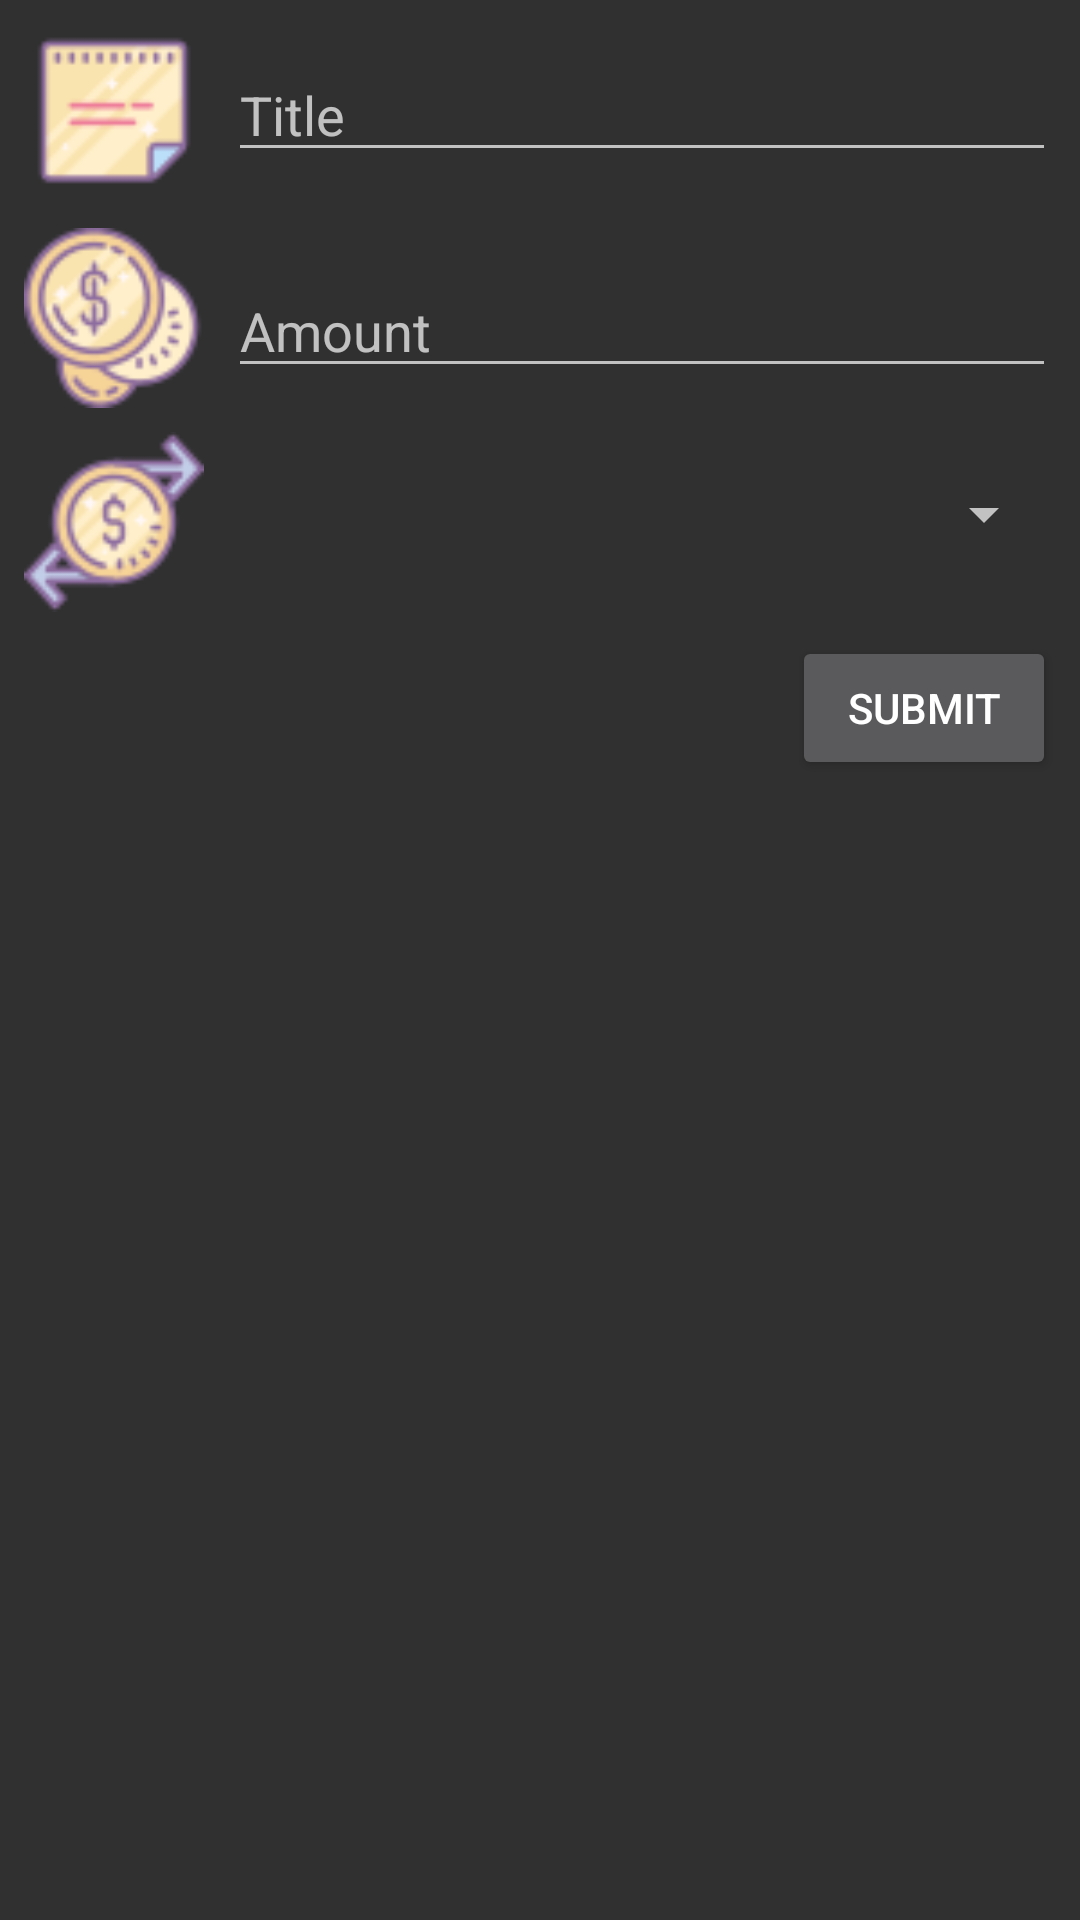

Point at icon controls on the screen. Image size 1080 × 1920, points as point (x, y).
type: point (114, 522)
